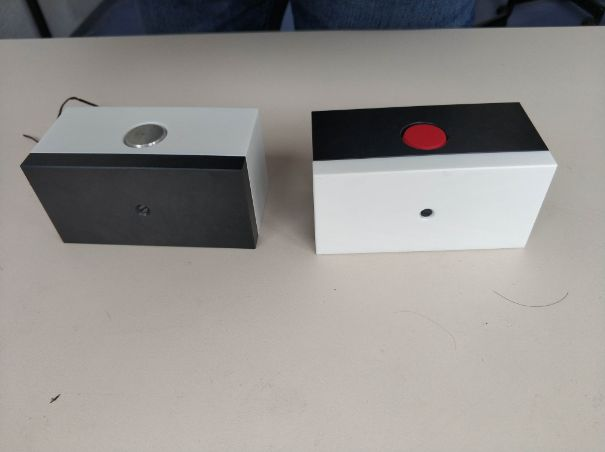black+white+silver: (19, 105, 272, 251)
white+black+red: (309, 100, 561, 256)
